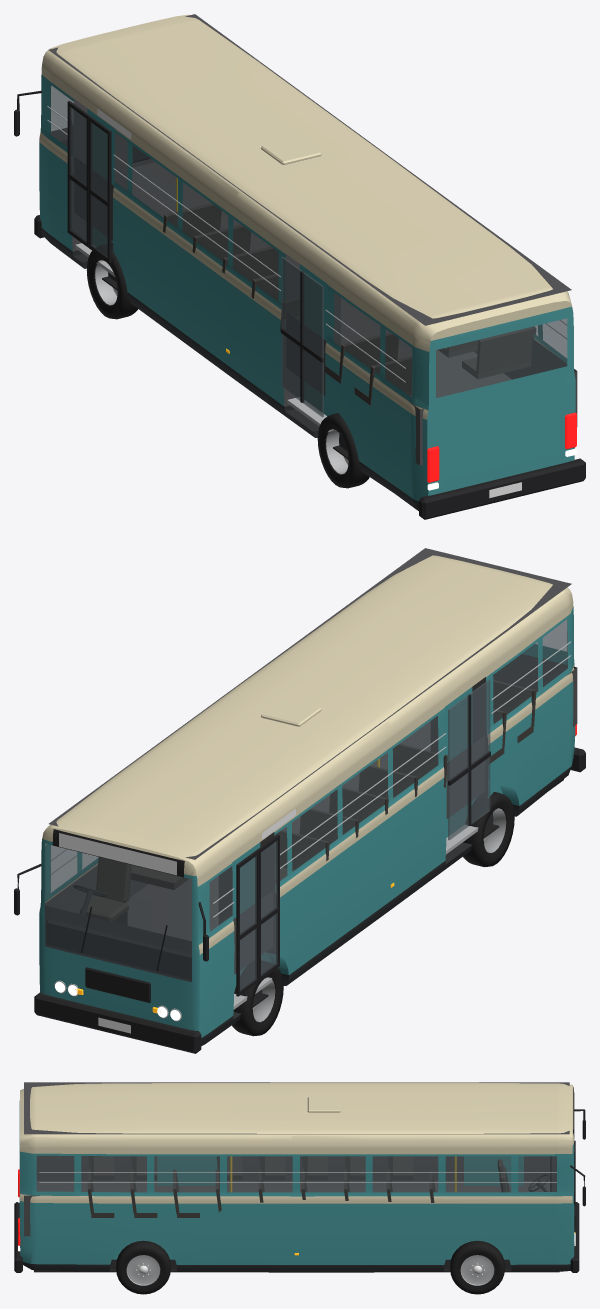
Rendered from bus.glb.
3 renders of one model, top to bottom at view 1: azimuth 30°, elevation 25°; view 2: azimuth 150°, elevation 25°; view 3: azimuth 270°, elevation 25°, orthographic. The views are drawn at different scales.
Visible parts, largest first — view 1: bus_body, door_front_b, door_front_a, wheel_rl, wheel_fl; view 2: bus_body, door_front_a, door_front_b, wheel_rl, wheel_fl; view 3: bus_body, wheel_rr, wheel_fr.
Boxes of the visible parts, x1,y1,x2,y2 form: bus_body: (14, 14, 585, 519); door_front_b: (88, 116, 111, 262); door_front_a: (67, 101, 90, 247); wheel_rl: (317, 413, 369, 488); wheel_fl: (86, 243, 137, 319); bus_body: (14, 548, 585, 1053); door_front_a: (236, 850, 258, 996); door_front_b: (257, 834, 279, 980); wheel_rl: (463, 792, 514, 867); wheel_fl: (232, 960, 283, 1036); bus_body: (14, 1082, 585, 1272); wheel_rr: (116, 1240, 170, 1294); wheel_fr: (450, 1240, 504, 1294).
Size of the model in its own units: 2.96 by 3.3 by 10.45.
